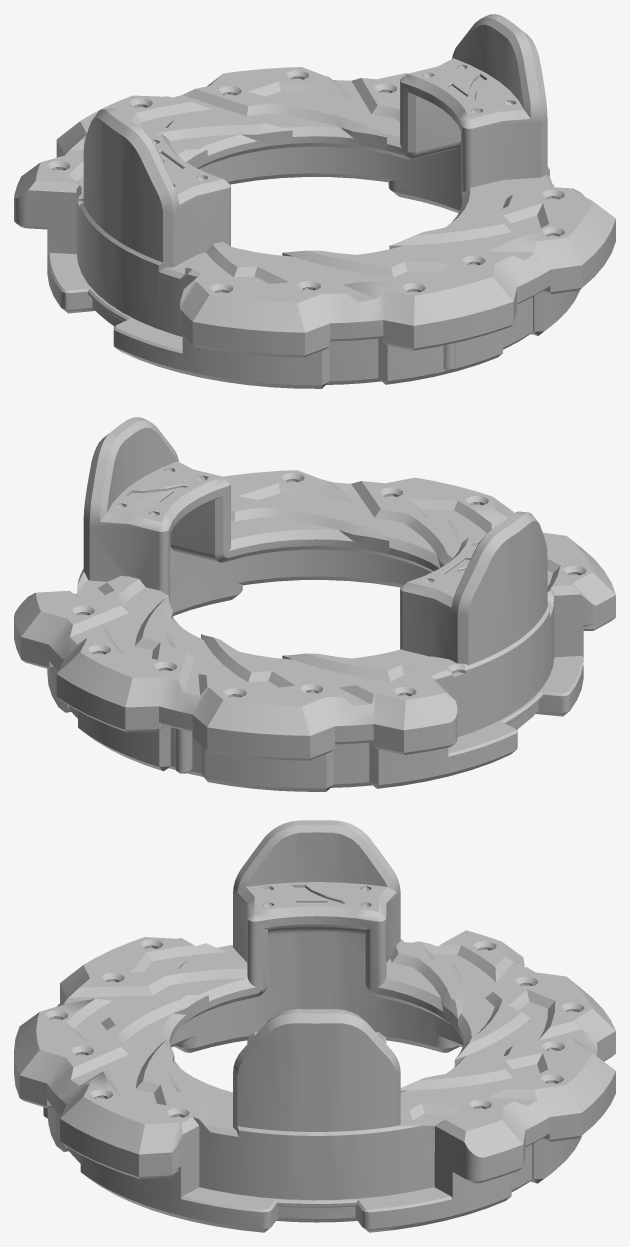
3 renders of one model, top to bottom at view 1: azimuth 30°, elevation 25°; view 2: azimuth 150°, elevation 25°; view 3: azimuth 270°, elevation 25°, orthographic.
Visible parts, largest first — view 1: Mesh_9682out; view 2: Mesh_9682out; view 3: Mesh_9682out.
Boxes of the visible parts, left/top/right/bottom form: Mesh_9682out: left=14, top=14, right=615, bottom=388; Mesh_9682out: left=14, top=417, right=615, bottom=791; Mesh_9682out: left=14, top=820, right=615, bottom=1232.
Size of the model in its own units: 0.3568 by 0.155 by 0.4075.
Materials: 1 (1 with a texture image).
